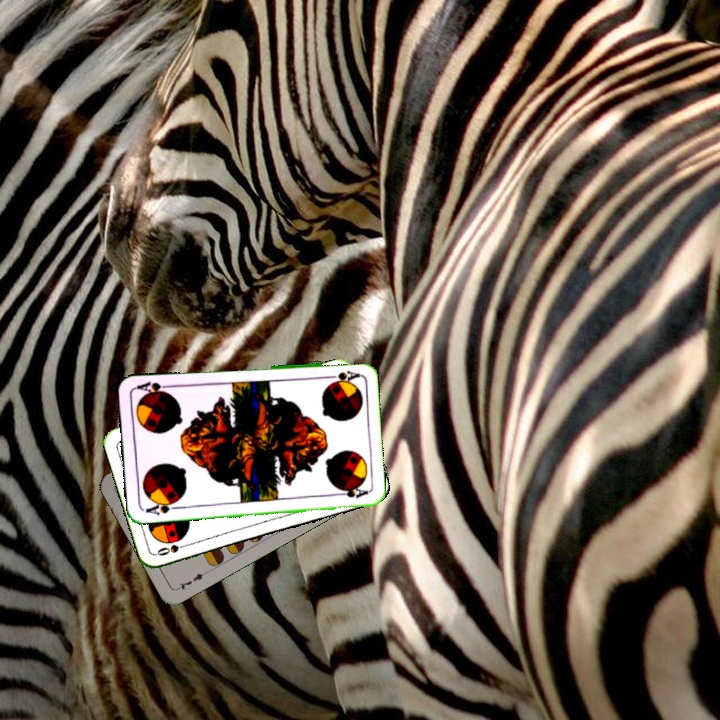E7: (173, 567, 210, 593)
SA: (141, 497, 181, 518), (321, 367, 361, 385)
SO: (153, 539, 193, 558)
